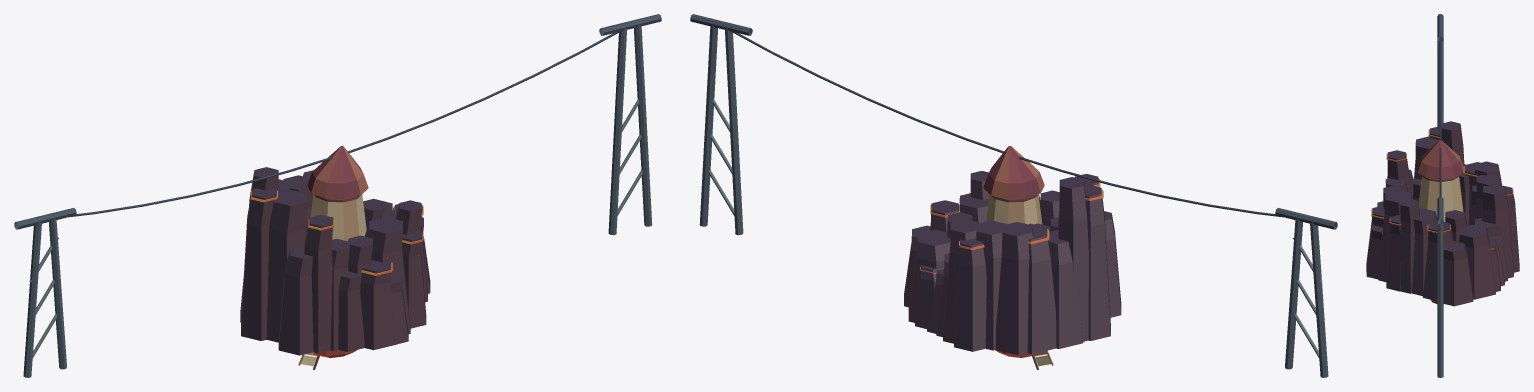
Rendered from courtside-wildlife.glb.
3 views of the same model, side by side, from view 1: azimuth 30°, elevation 25°; view 2: azimuth 150°, elevation 25°; view 3: azimuth 270°, elevation 25° (orthographic). The views are drawn at different scales.
Visible parts, largest first — view 1: volcanoVents, mountainCable, meadowMill; view 2: volcanoVents, mountainCable, meadowMill; view 3: volcanoVents, meadowMill, mountainCable.
Part boxes in pixels (box(x1,y1,x2,y2)): volcanoVents: box(240, 167, 430, 355); mountainCable: box(14, 14, 661, 377); meadowMill: box(307, 146, 368, 241); volcanoVents: box(904, 171, 1121, 355); mountainCable: box(690, 14, 1337, 377); meadowMill: box(983, 146, 1044, 224); volcanoVents: box(1366, 121, 1519, 306); meadowMill: box(1417, 140, 1463, 221); mountainCable: box(1437, 14, 1443, 377).
Bounding box in the file's own units: 39.6 × 15.93 × 10.46.
